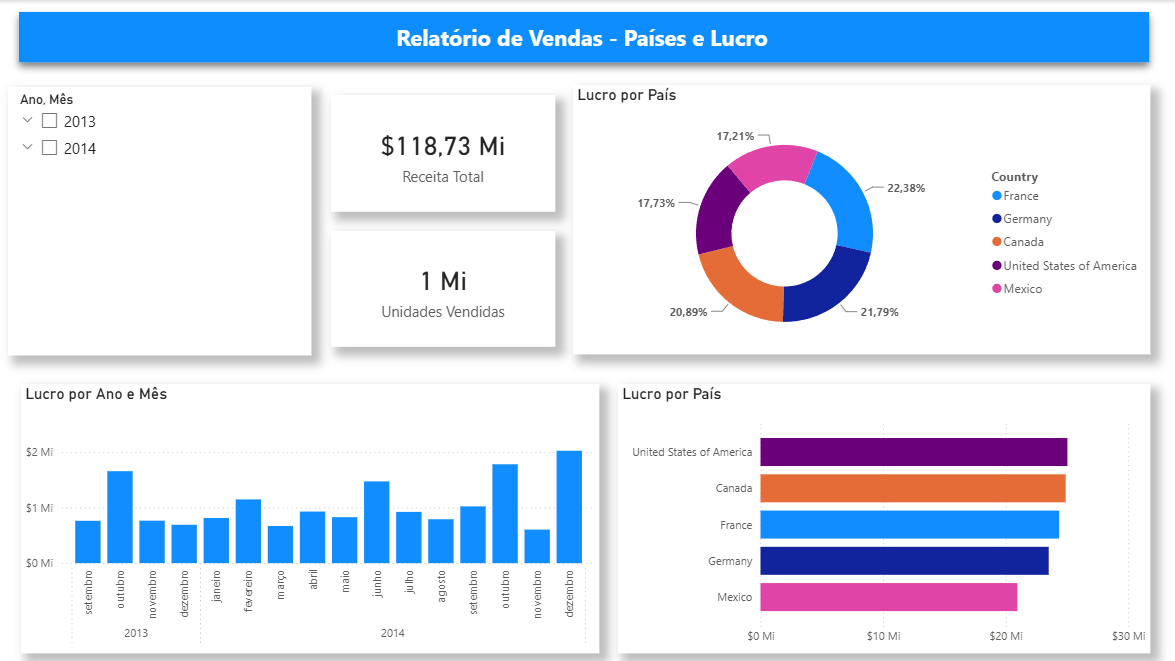

The dashboard page shown, as its layout file describes it:
{"tool":"powerbi","page":{"name":"Lucro","canvas":[1280,720],"ordinal":1},"visuals":[{"type":"slicer","fields":{"Values":["financials.Date.Variation.Hierarquia de datas.Ano","financials.Date.Variation.Hierarquia de datas.Mês"]},"box":[9.3,94.1,329.9,291.5],"z":0},{"type":"shape","box":[9.1,0,1255.3,80.7],"z":1000},{"type":"textbox","box":[139.2,18.2,989.9,46.8],"z":2000},{"type":"card","fields":{"Values":["Sum(financials.Sales)"]},"box":[360.8,103.3,243.5,127.5],"z":3000},{"type":"card","fields":{"Values":["Sum(financials.Units Sold)"]},"box":[360.8,251.2,243.5,126.2],"z":4000},{"type":"donutChart","title":"Lucro por País","fields":{"Category":["financials.Country"],"Y":["Sum(financials.Profit (lucro))"]},"box":[624.1,92.8,628.1,292.8],"z":5000},{"type":"clusteredColumnChart","title":"Lucro por Ano e Mês","fields":{"Category":["financials.Date.Variation.Hierarquia de datas.Ano","financials.Date.Variation.Hierarquia de datas.Mês"],"Y":["Sum(financials.Profit (lucro))"]},"box":[23.9,417.4,629.4,292.8],"z":6000},{"type":"clusteredBarChart","title":"Lucro por País","fields":{"Category":["financials.Country"],"Y":["Sum(financials.Sales)"]},"box":[673.1,417.4,579,292.8],"z":7000}]}

Visuals, with their boxes in screenshot pixels (x1, y1, x2, y2), scaled from the page's 1280x720 canvas onto the 1175x661 screenshot:
slicer - financials.Date.Variation.Hierarquia de datas.Ano x financials.Date.Variation.Hierarquia de datas.Mês: 9, 86, 311, 354
shape: 8, 0, 1161, 74
textbox: 128, 17, 1036, 60
card - Sum(financials.Sales): 331, 95, 555, 212
card - Sum(financials.Units Sold): 331, 231, 555, 346
"Lucro por País" donutChart: 573, 85, 1149, 354
"Lucro por Ano e Mês" clusteredColumnChart: 22, 383, 600, 652
"Lucro por País" clusteredBarChart: 618, 383, 1149, 652
